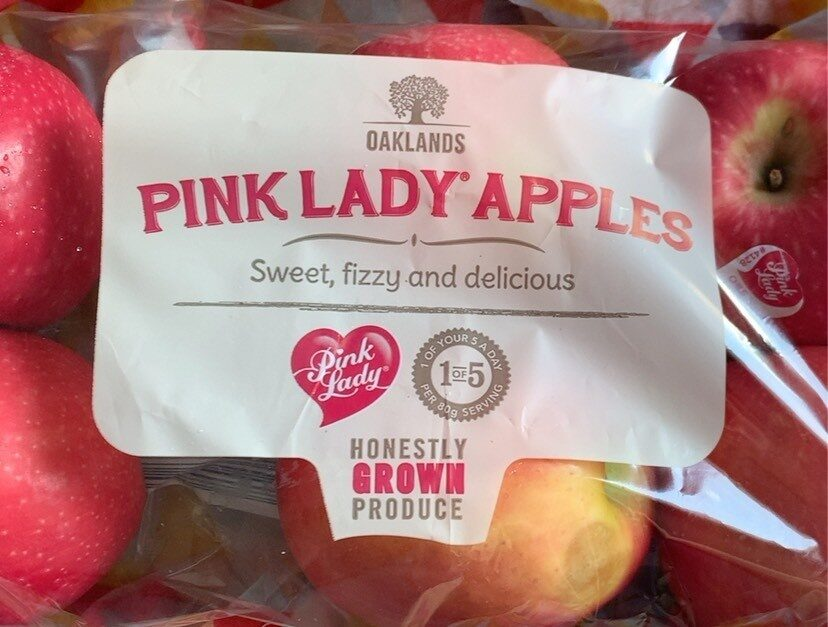Apple: (41, 31, 787, 596)
